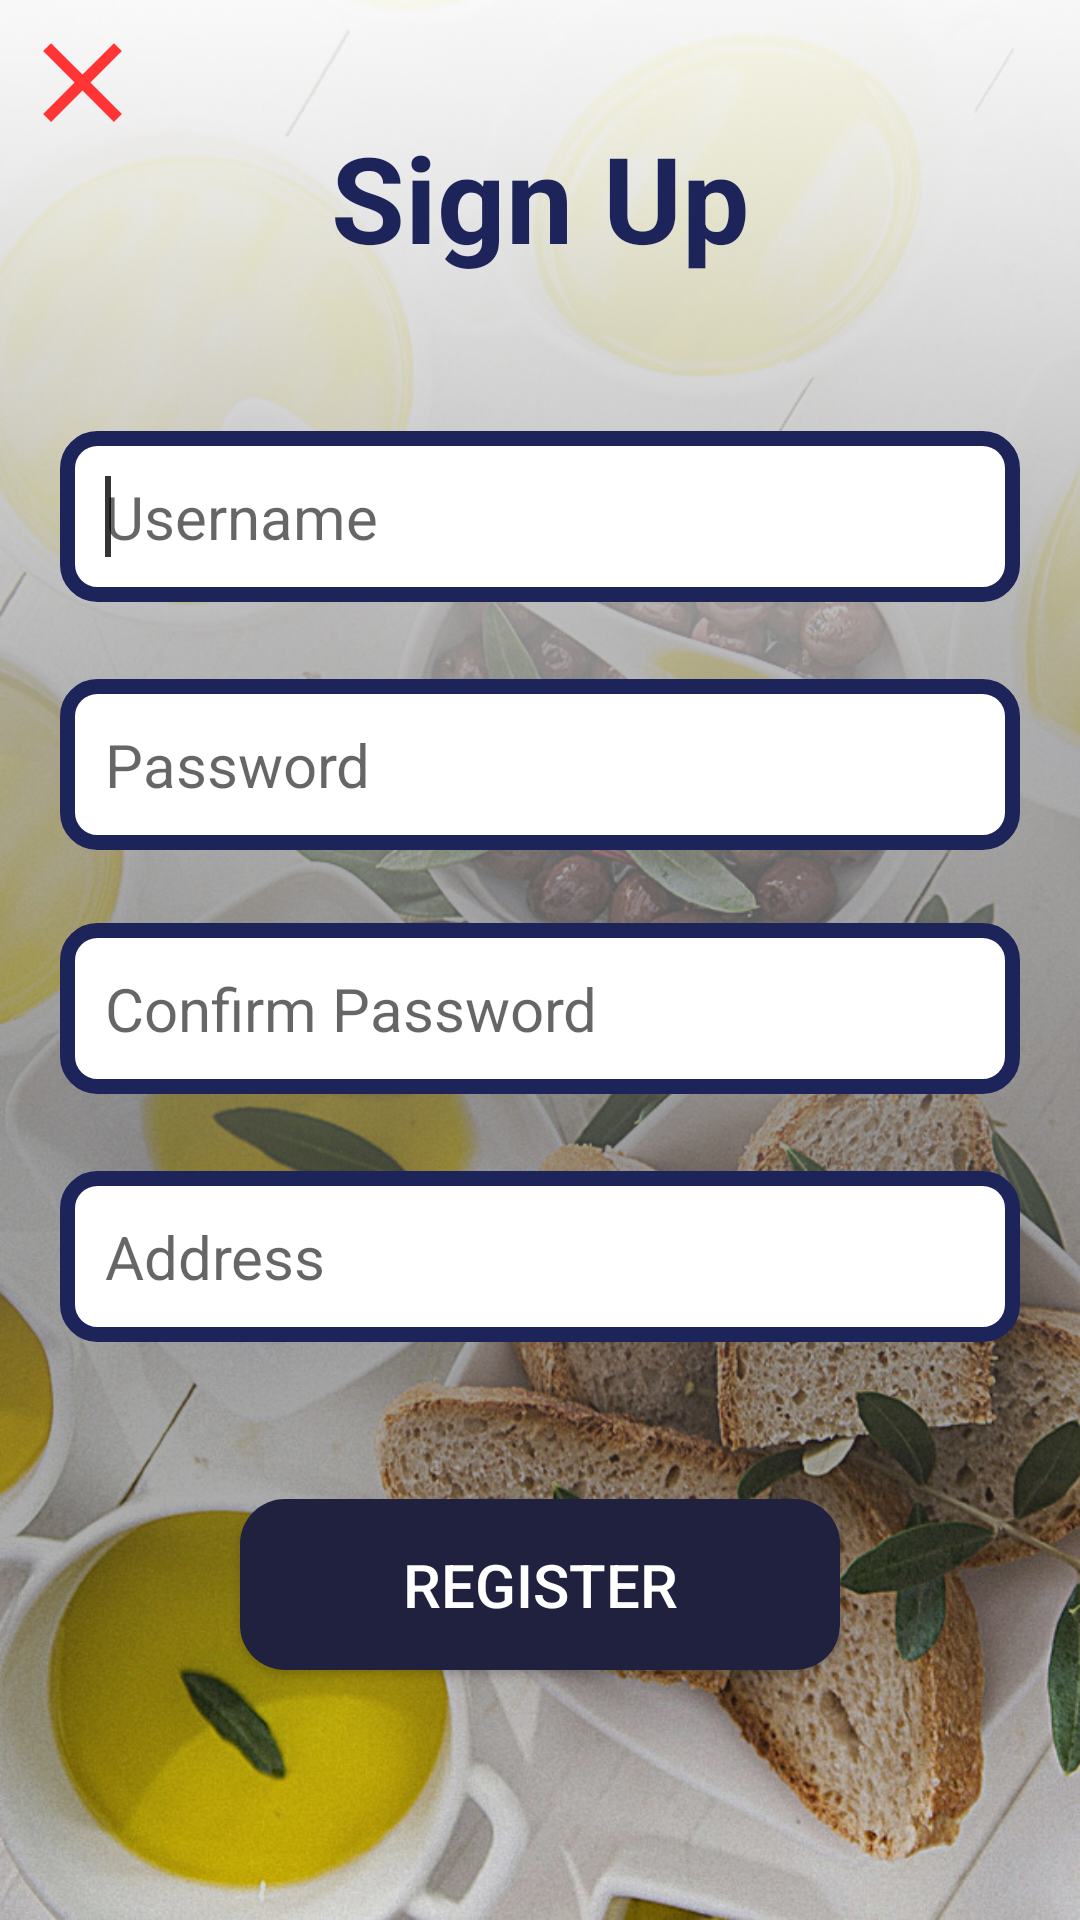

Icons on this 1080px x 1920px Android screen, each with its box as (x1, y1, x2, y2):
close: (43, 43, 122, 122)
